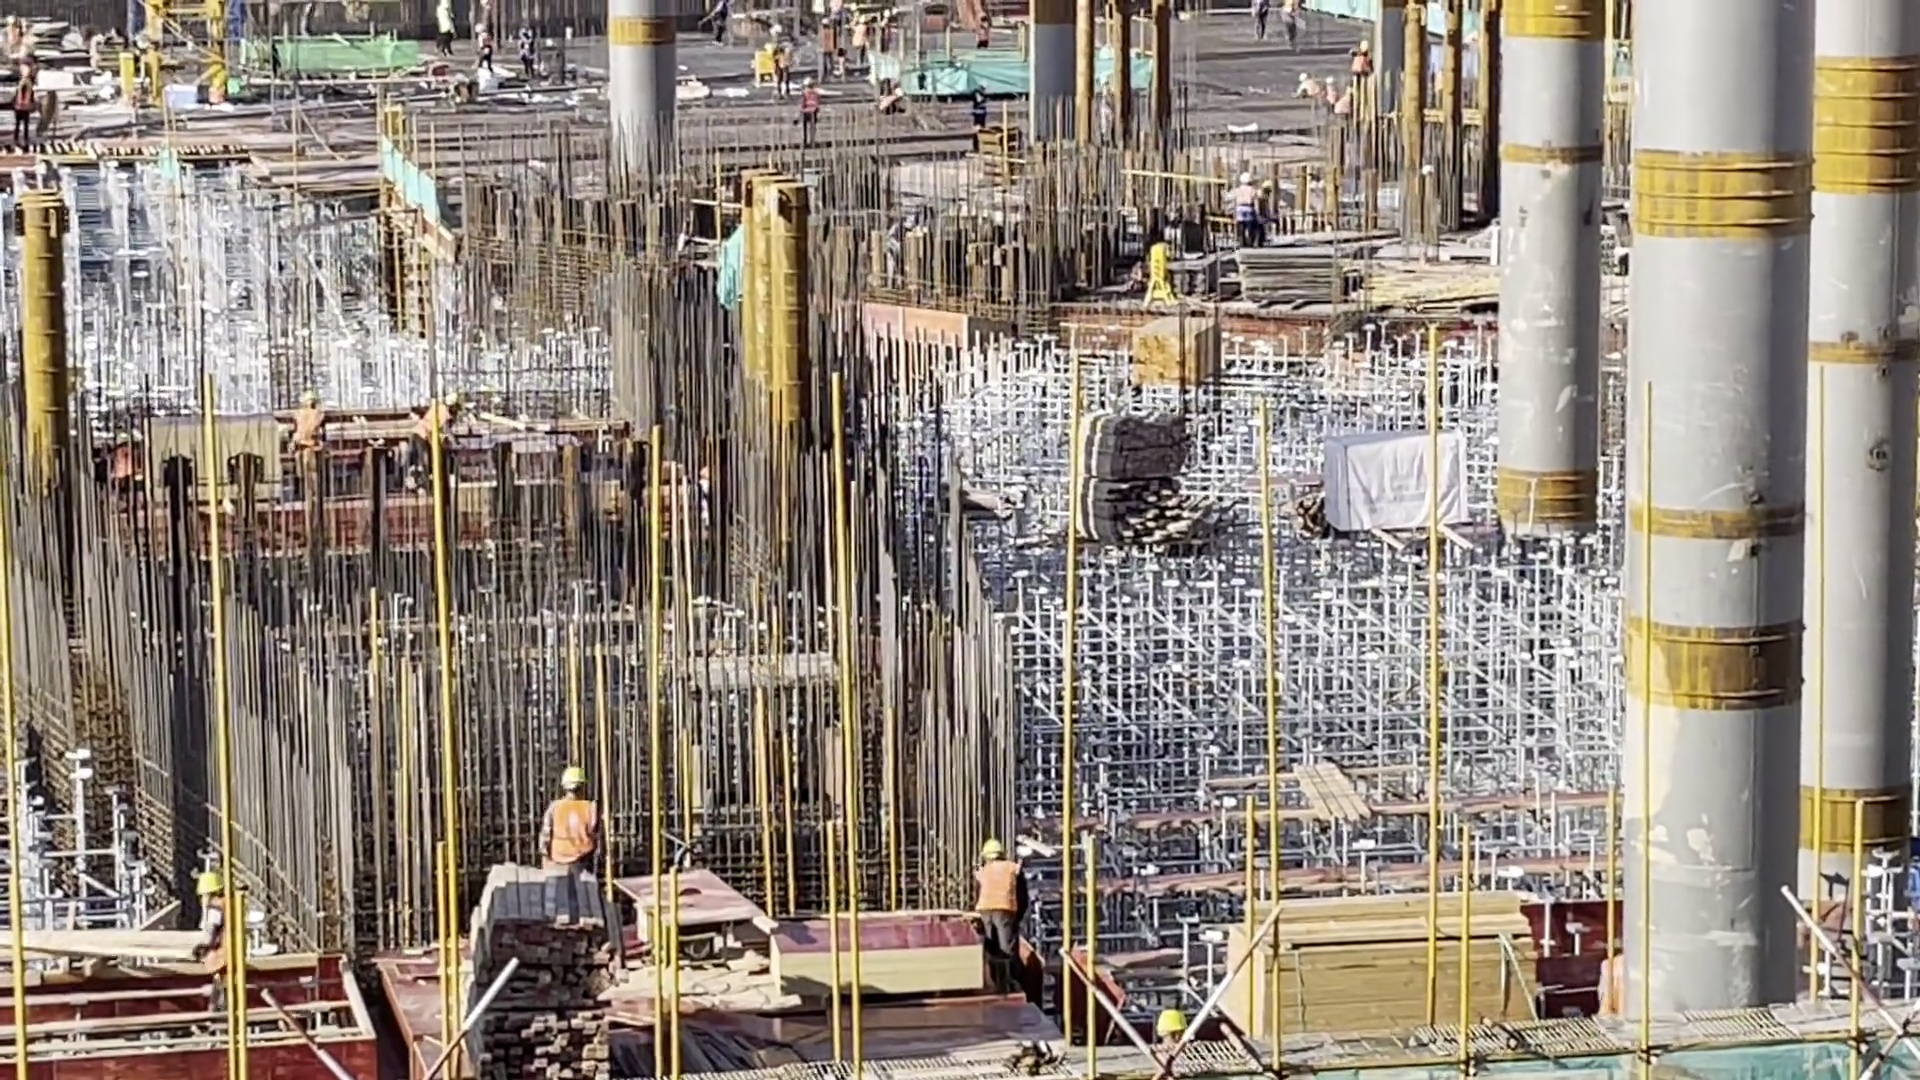board: (770, 909, 983, 1006)
cutter: (617, 866, 760, 961)
ebox: (1145, 239, 1172, 309), (113, 55, 141, 100)
helmet: (979, 838, 1008, 864), (1156, 1006, 1186, 1032), (195, 871, 222, 895), (556, 765, 585, 786)
person: (974, 840, 1033, 991), (537, 762, 599, 873), (408, 392, 458, 481), (197, 870, 229, 978), (285, 389, 328, 466), (1225, 171, 1264, 248), (8, 60, 36, 148), (801, 75, 821, 142), (437, 1, 456, 58), (517, 19, 536, 79), (774, 41, 792, 99), (474, 23, 493, 74), (820, 18, 837, 78), (971, 82, 989, 129), (1291, 70, 1322, 98), (852, 15, 869, 65), (1250, 1, 1271, 40), (1326, 73, 1341, 114), (976, 12, 991, 49)
vest: (973, 860, 1022, 924), (549, 800, 594, 861)
wood: (1218, 893, 1542, 1030), (465, 863, 613, 1080), (1074, 405, 1191, 552), (1232, 243, 1345, 315), (1132, 314, 1226, 389)
